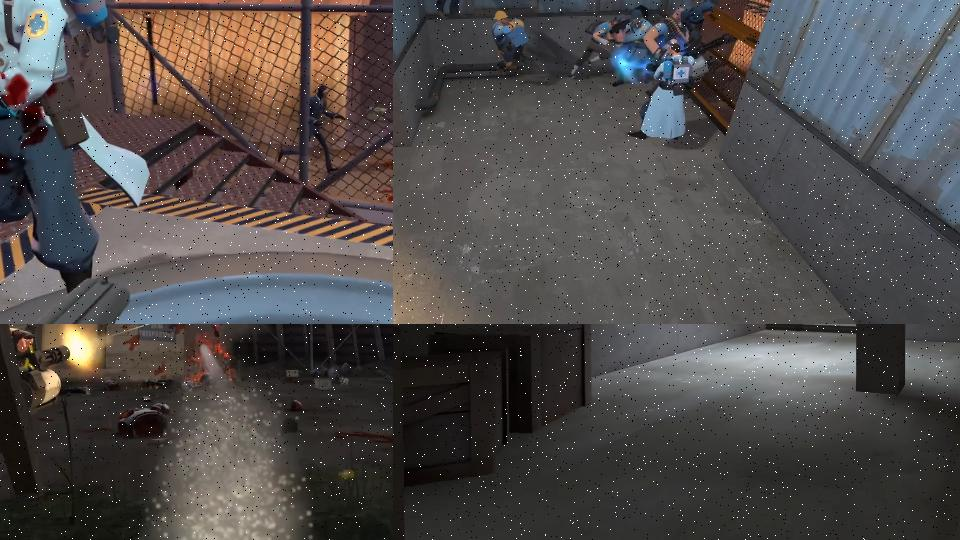Enemy: (0, 0, 106, 293), (0, 324, 71, 454), (628, 43, 696, 141), (275, 83, 348, 174), (644, 7, 728, 84), (609, 5, 653, 87), (570, 16, 622, 79), (660, 0, 724, 44), (492, 11, 532, 72)
